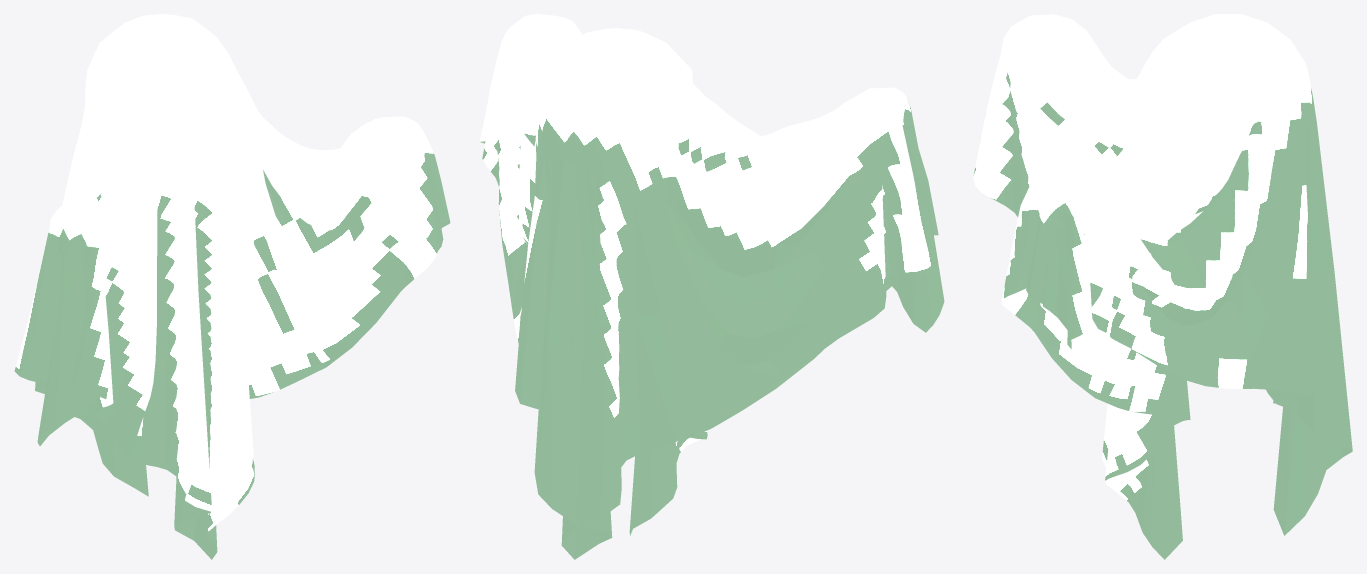
File: ghost2.glb
3 renders of one model, left to right at view 1: azimuth 30°, elevation 25°; view 2: azimuth 150°, elevation 25°; view 3: azimuth 270°, elevation 25°, orthographic.
Parts seen in each view (by area): view 1: 0; view 2: 0; view 3: 0.
Part boxes in pixels (x1,y1,x2,y2): 0: (14, 14, 450, 559); 0: (479, 14, 944, 559); 0: (973, 14, 1352, 559).
Bounding box in the file's own units: 1.36 × 1.56 × 1.01.
1 material, 1 textured.
